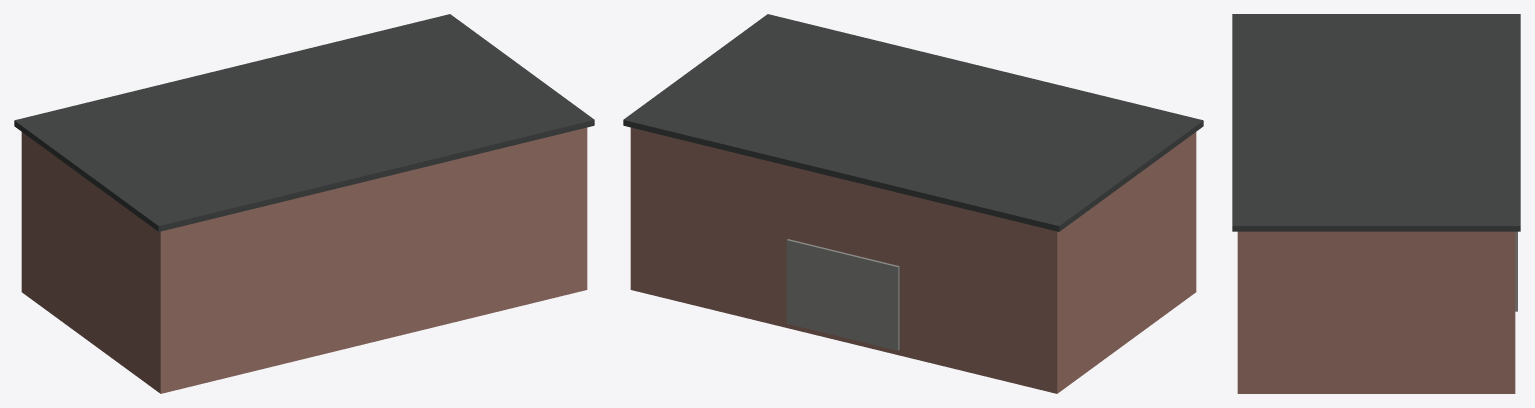
The model's file is warehouse_01.glb.
The picture shows the model from 3 angles, left to right: view 1: azimuth 30°, elevation 25°; view 2: azimuth 150°, elevation 25°; view 3: azimuth 270°, elevation 25°; orthographic projection.
Bounding box in the file's own units: 23.5 × 8.8 × 13.5.
